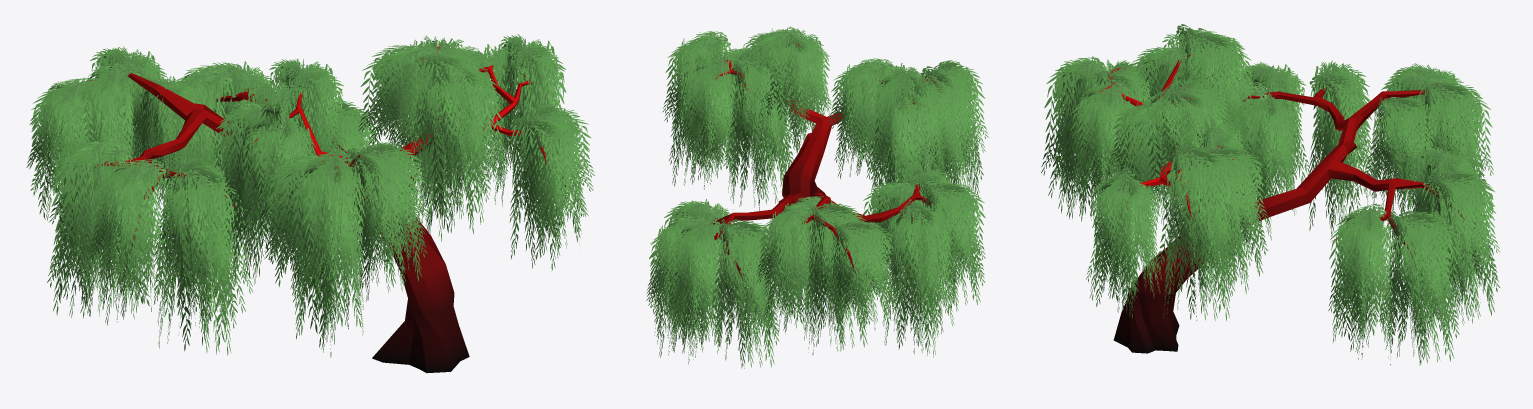
File: PT_Weeping_Willow_Tree_03_green.fbx
The picture shows the model from 3 angles, left to right: view 1: azimuth 30°, elevation 25°; view 2: azimuth 150°, elevation 25°; view 3: azimuth 270°, elevation 25°; orthographic projection. The views are drawn at different scales.
Visible parts, largest first — view 1: PT_Weeping_Willow_Tree_03_green_LOD0; view 2: PT_Weeping_Willow_Tree_03_green_LOD0; view 3: PT_Weeping_Willow_Tree_03_green_LOD0.
Boxes of the visible parts, x1=… form: PT_Weeping_Willow_Tree_03_green_LOD0: x1=26, y1=34, x2=594, y2=373; PT_Weeping_Willow_Tree_03_green_LOD0: x1=646, y1=26, x2=988, y2=368; PT_Weeping_Willow_Tree_03_green_LOD0: x1=1041, y1=24, x2=1500, y2=365.
Size of what is drawn, in the model's own units: 1172 by 806 by 1215.
